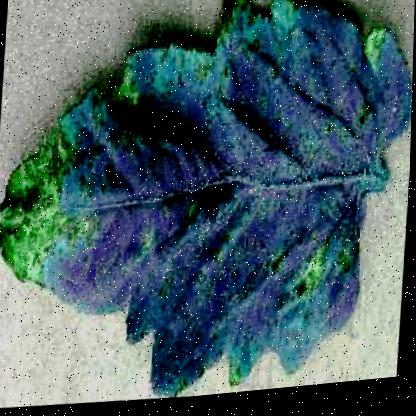BACTERIAL SPOT: (0, 0, 415, 415)
